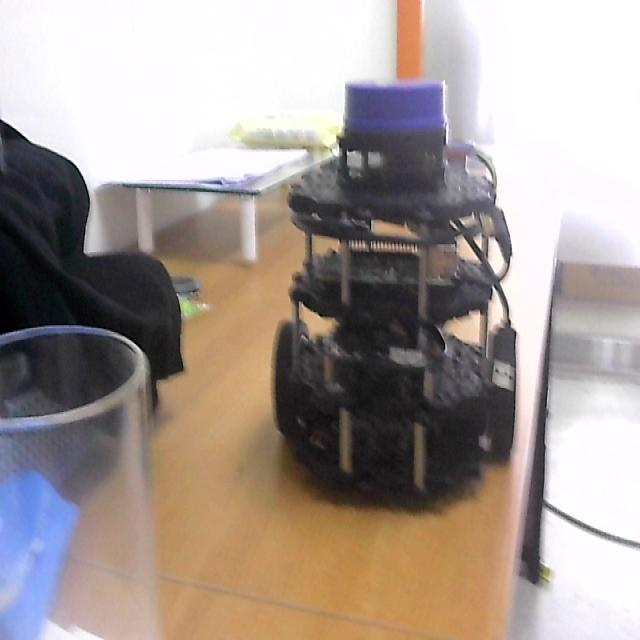turtle: (271, 78, 519, 516)
